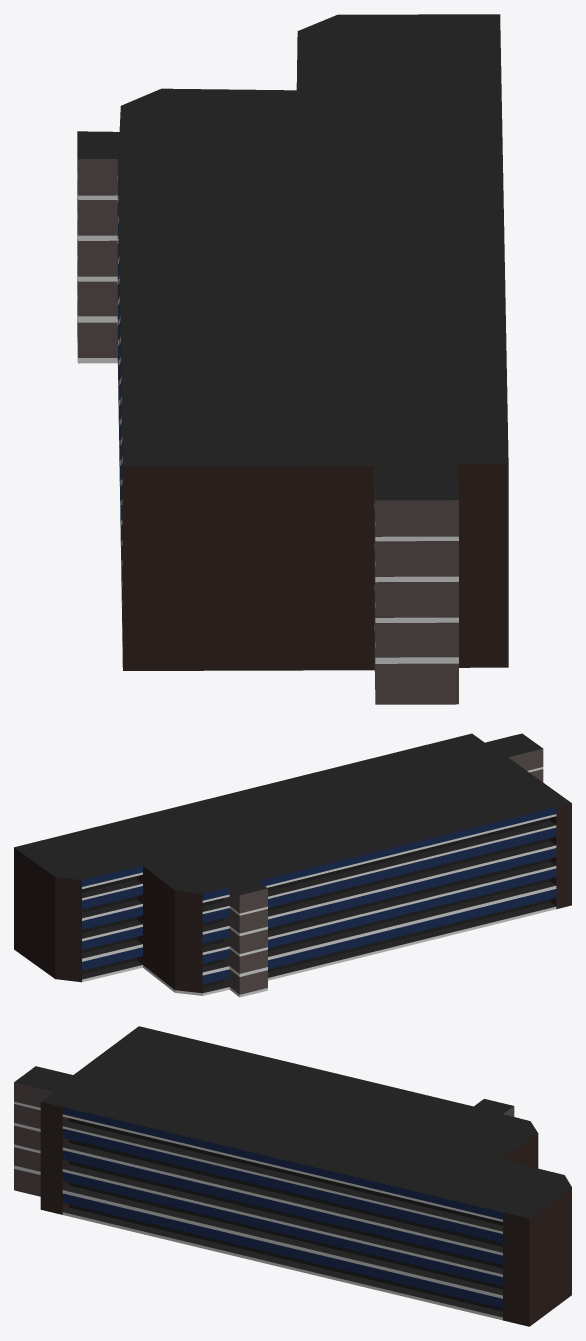
The model's file is NCP Wellington Street.fbx.
The picture shows the model from 3 angles, top to bottom: view 1: azimuth 30°, elevation 25°; view 2: azimuth 150°, elevation 25°; view 3: azimuth 270°, elevation 25°; orthographic projection. The views are drawn at different scales.
Visible parts, largest first — view 1: NCP Wellington Street; view 2: NCP Wellington Street; view 3: NCP Wellington Street.
Boxes of the visible parts, x1,y1,x2,y2 form: NCP Wellington Street: (77,14,508,704); NCP Wellington Street: (14,733,571,997); NCP Wellington Street: (14,1026,571,1326).
Bounding box in the file's own units: 7366 × 1926 × 9016.
